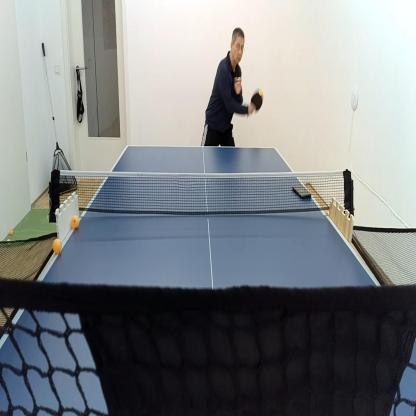Ball: (53, 238, 62, 253), (71, 214, 79, 227), (258, 88, 262, 96), (7, 239, 11, 245), (9, 230, 13, 235)
